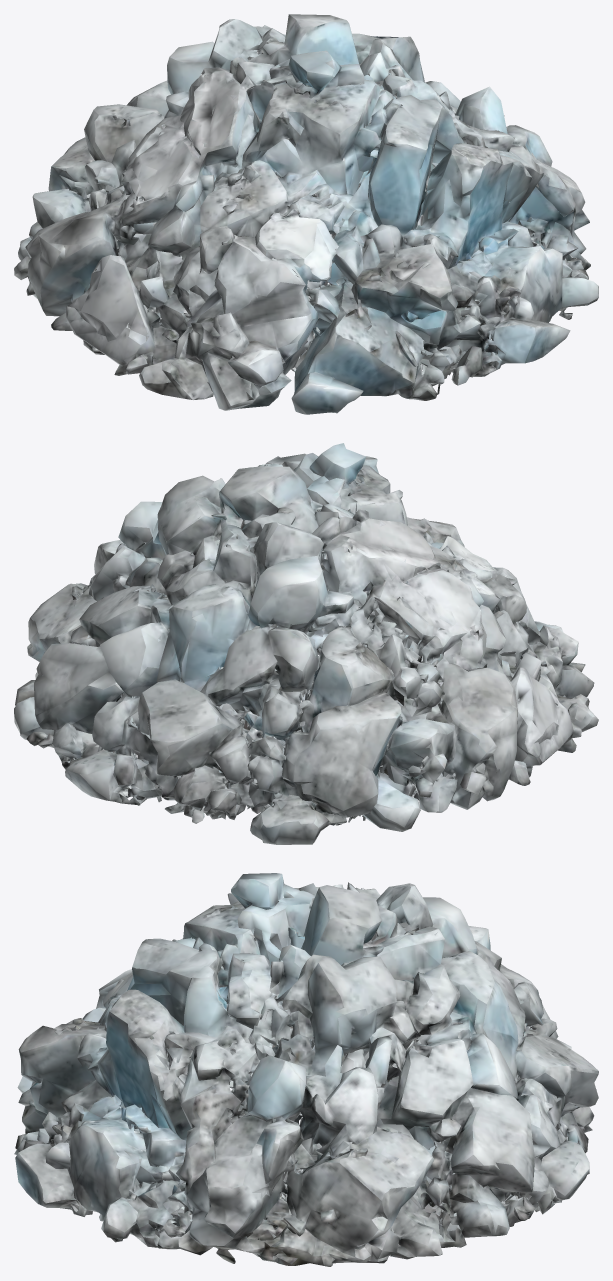
The model's file is serac-rubble-01-web.glb.
The picture shows the model from 3 angles, top to bottom: view 1: azimuth 30°, elevation 25°; view 2: azimuth 150°, elevation 25°; view 3: azimuth 270°, elevation 25°; orthographic projection. The views are drawn at different scales.
Parts seen in each view (by area): view 1: geometry_0; view 2: geometry_0; view 3: geometry_0.
Boxes of the visible parts, x1,y1,x2,y2 form: geometry_0: [14, 14, 598, 414]; geometry_0: [14, 443, 598, 844]; geometry_0: [14, 873, 598, 1266].
Bounding box in the file's own units: 0.7981 × 0.4325 × 0.806.
Materials: 1 (1 with a texture image).
